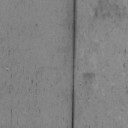surface scratch: (72, 0, 76, 128)
